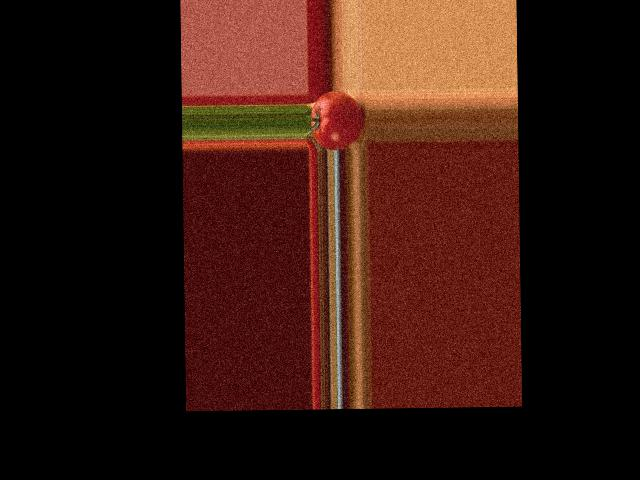tomato: (310, 90, 362, 150)
